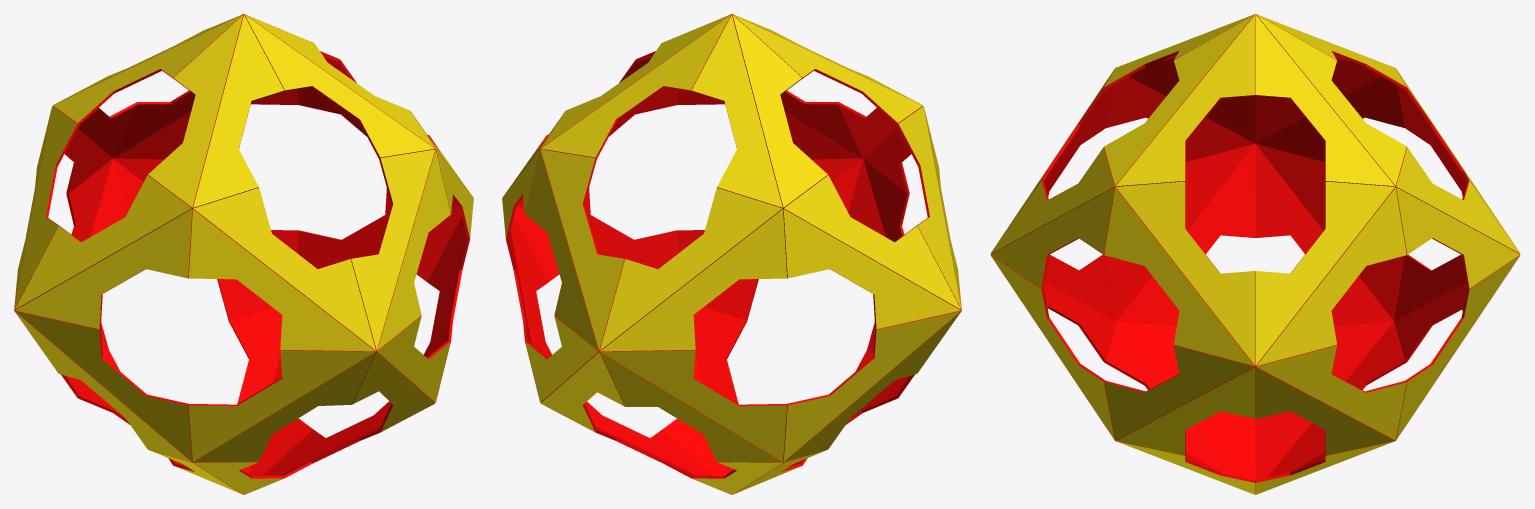
Rendered from DisdyakisDodecahedronS.glb.
3 views of the same model, side by side, from view 1: azimuth 30°, elevation 25°; view 2: azimuth 150°, elevation 25°; view 3: azimuth 270°, elevation 25° (orthographic).
Parts seen in each view (by area): view 1: Mesh_0015_1, Mesh_0015; view 2: Mesh_0015_1, Mesh_0015; view 3: Mesh_0015_1, Mesh_0015.
Boxes of the visible parts, x1,y1,x2,y2 form: Mesh_0015_1: (14, 14, 473, 494); Mesh_0015: (14, 14, 473, 494); Mesh_0015_1: (502, 14, 961, 494); Mesh_0015: (502, 14, 961, 494); Mesh_0015_1: (991, 14, 1519, 494); Mesh_0015: (991, 14, 1519, 493).
Bounding box in the file's own units: 9.65 × 9.65 × 9.65.
